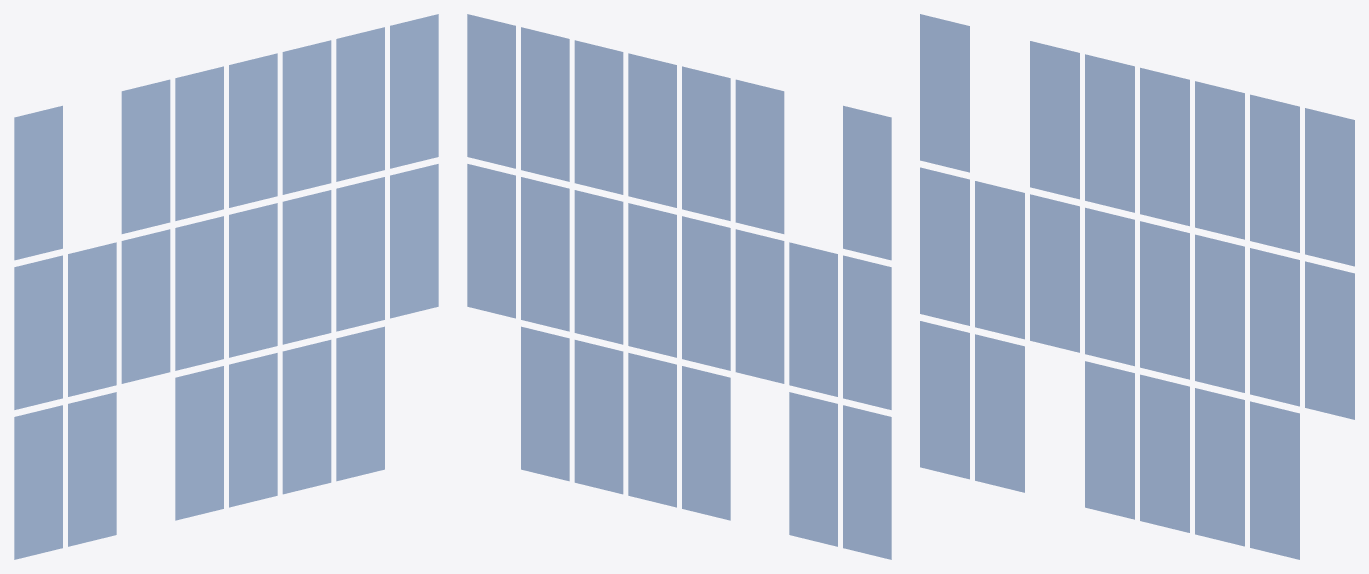
Rendered from SM_F_WindowGlass_End.fbx.
3 views of the same model, side by side, from view 1: azimuth 30°, elevation 25°; view 2: azimuth 150°, elevation 25°; view 3: azimuth 330°, elevation 25° (orthographic). The views are drawn at different scales.
Parts seen in each view (by area): view 1: SM_F_WindowGlass_End__Body; view 2: SM_F_WindowGlass_End__Body; view 3: SM_F_WindowGlass_End__Body.
Part boxes in pixels (x1,y1,x2,y2): SM_F_WindowGlass_End__Body: [14, 14, 438, 559]; SM_F_WindowGlass_End__Body: [467, 14, 891, 559]; SM_F_WindowGlass_End__Body: [920, 14, 1354, 559].
Size of the model in its own units: 5.93 by 5.91 by 0.
